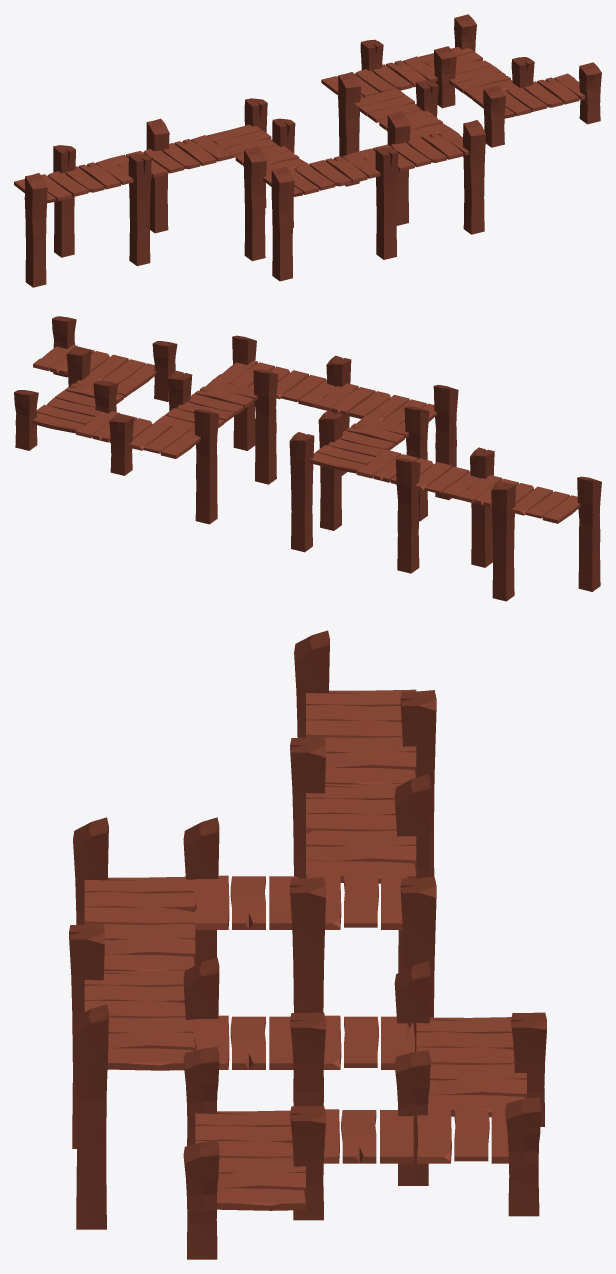
Rendered from m_bg_docksDark_03.fbx.
The picture shows the model from 3 angles, top to bottom: view 1: azimuth 30°, elevation 25°; view 2: azimuth 150°, elevation 25°; view 3: azimuth 270°, elevation 25°; orthographic projection. The views are drawn at different scales.
Parts seen in each view (by area): view 1: m_bg_docksDark_03; view 2: m_bg_docksDark_03; view 3: m_bg_docksDark_03.
Part boxes in pixels (box(x1,y1,x2,y2)): m_bg_docksDark_03: box(14, 14, 601, 287); m_bg_docksDark_03: box(14, 316, 601, 601); m_bg_docksDark_03: box(69, 630, 546, 1259).
Size of the model in its own units: 5656 by 1107 by 2163.
